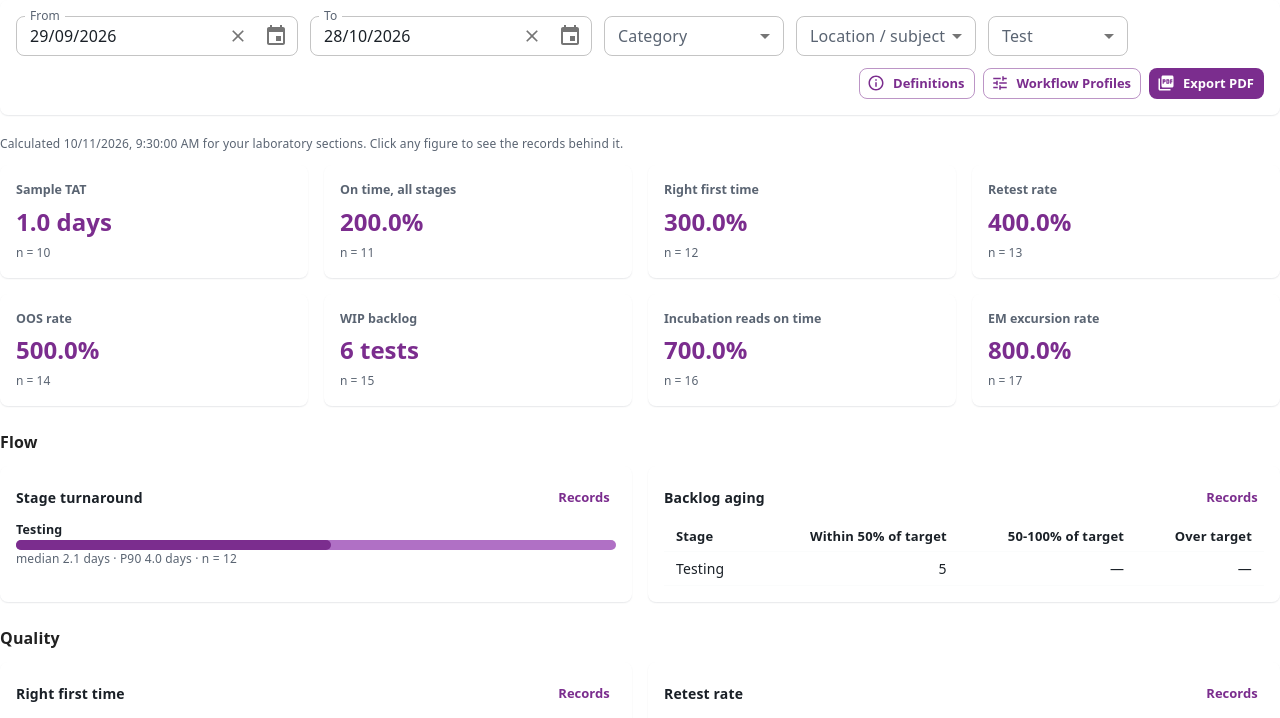
Test: KpiPerformanceTab › opens the records behind a tile
Click the button with aria-label "Sample TAT: " at (51, 189), box [0,165,308,278]
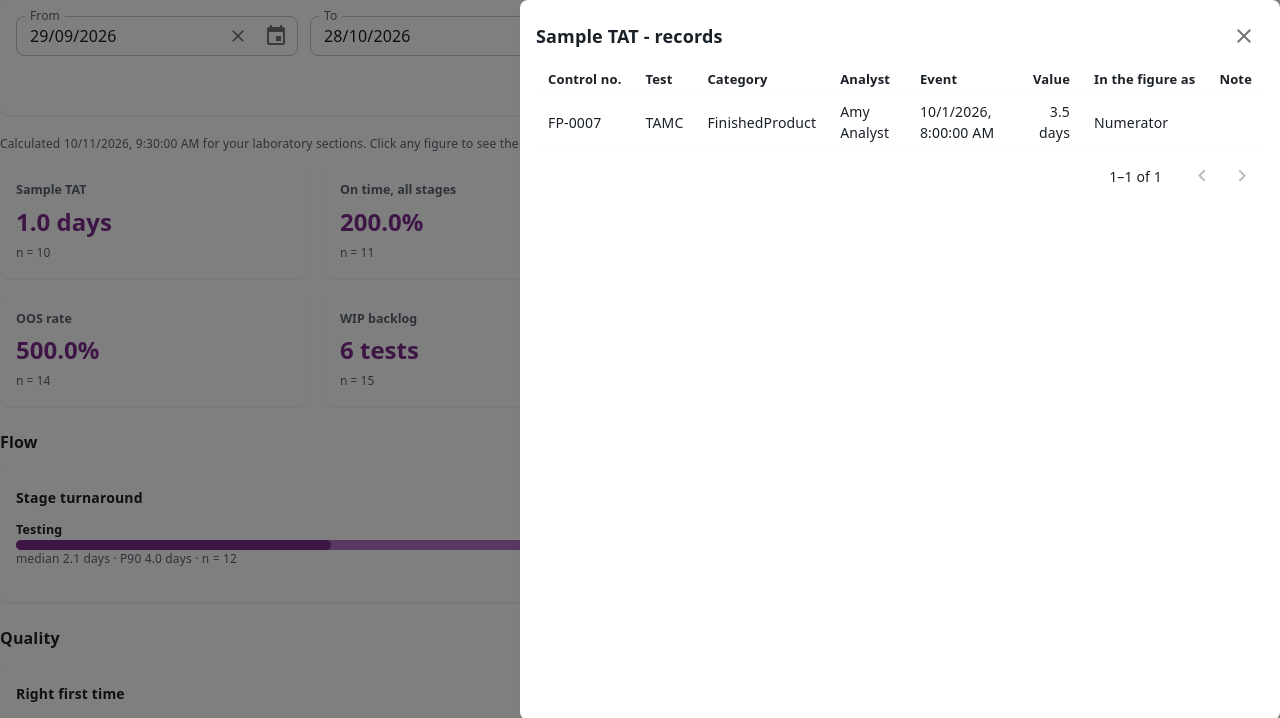
Check: the text "FP-0007" is shown, box [536,95,634,150]
